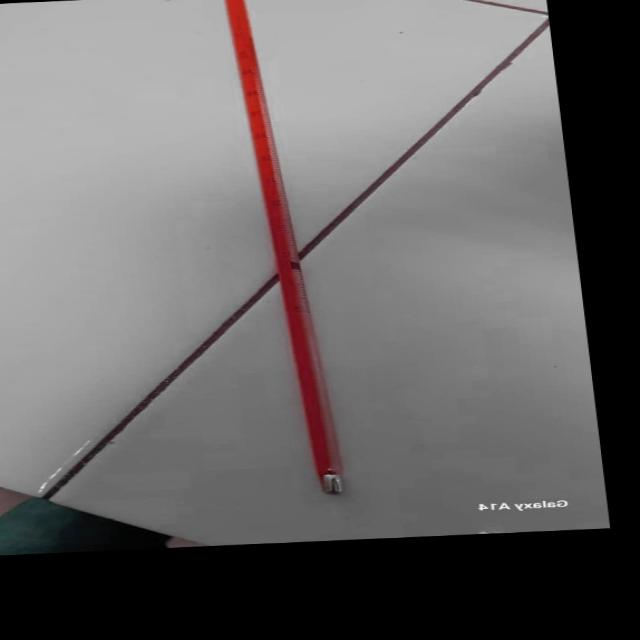Thermometer: (203, 0, 354, 511)
